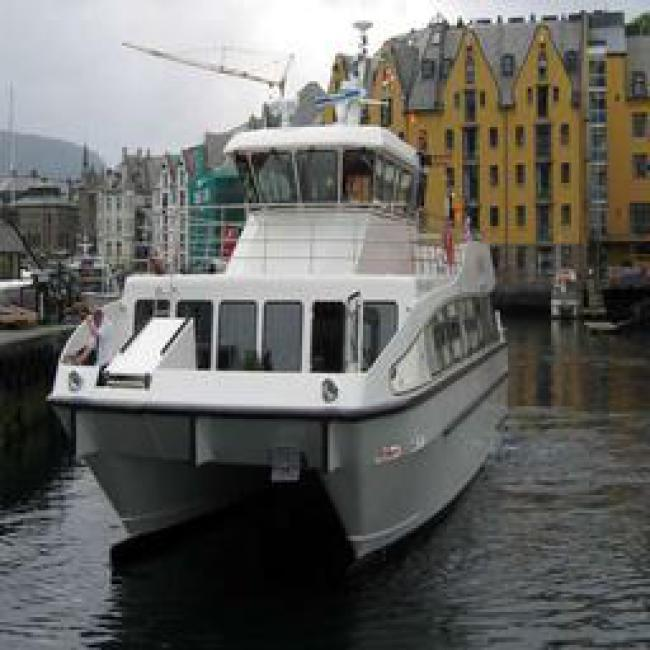Ship: (79, 146, 540, 548)
